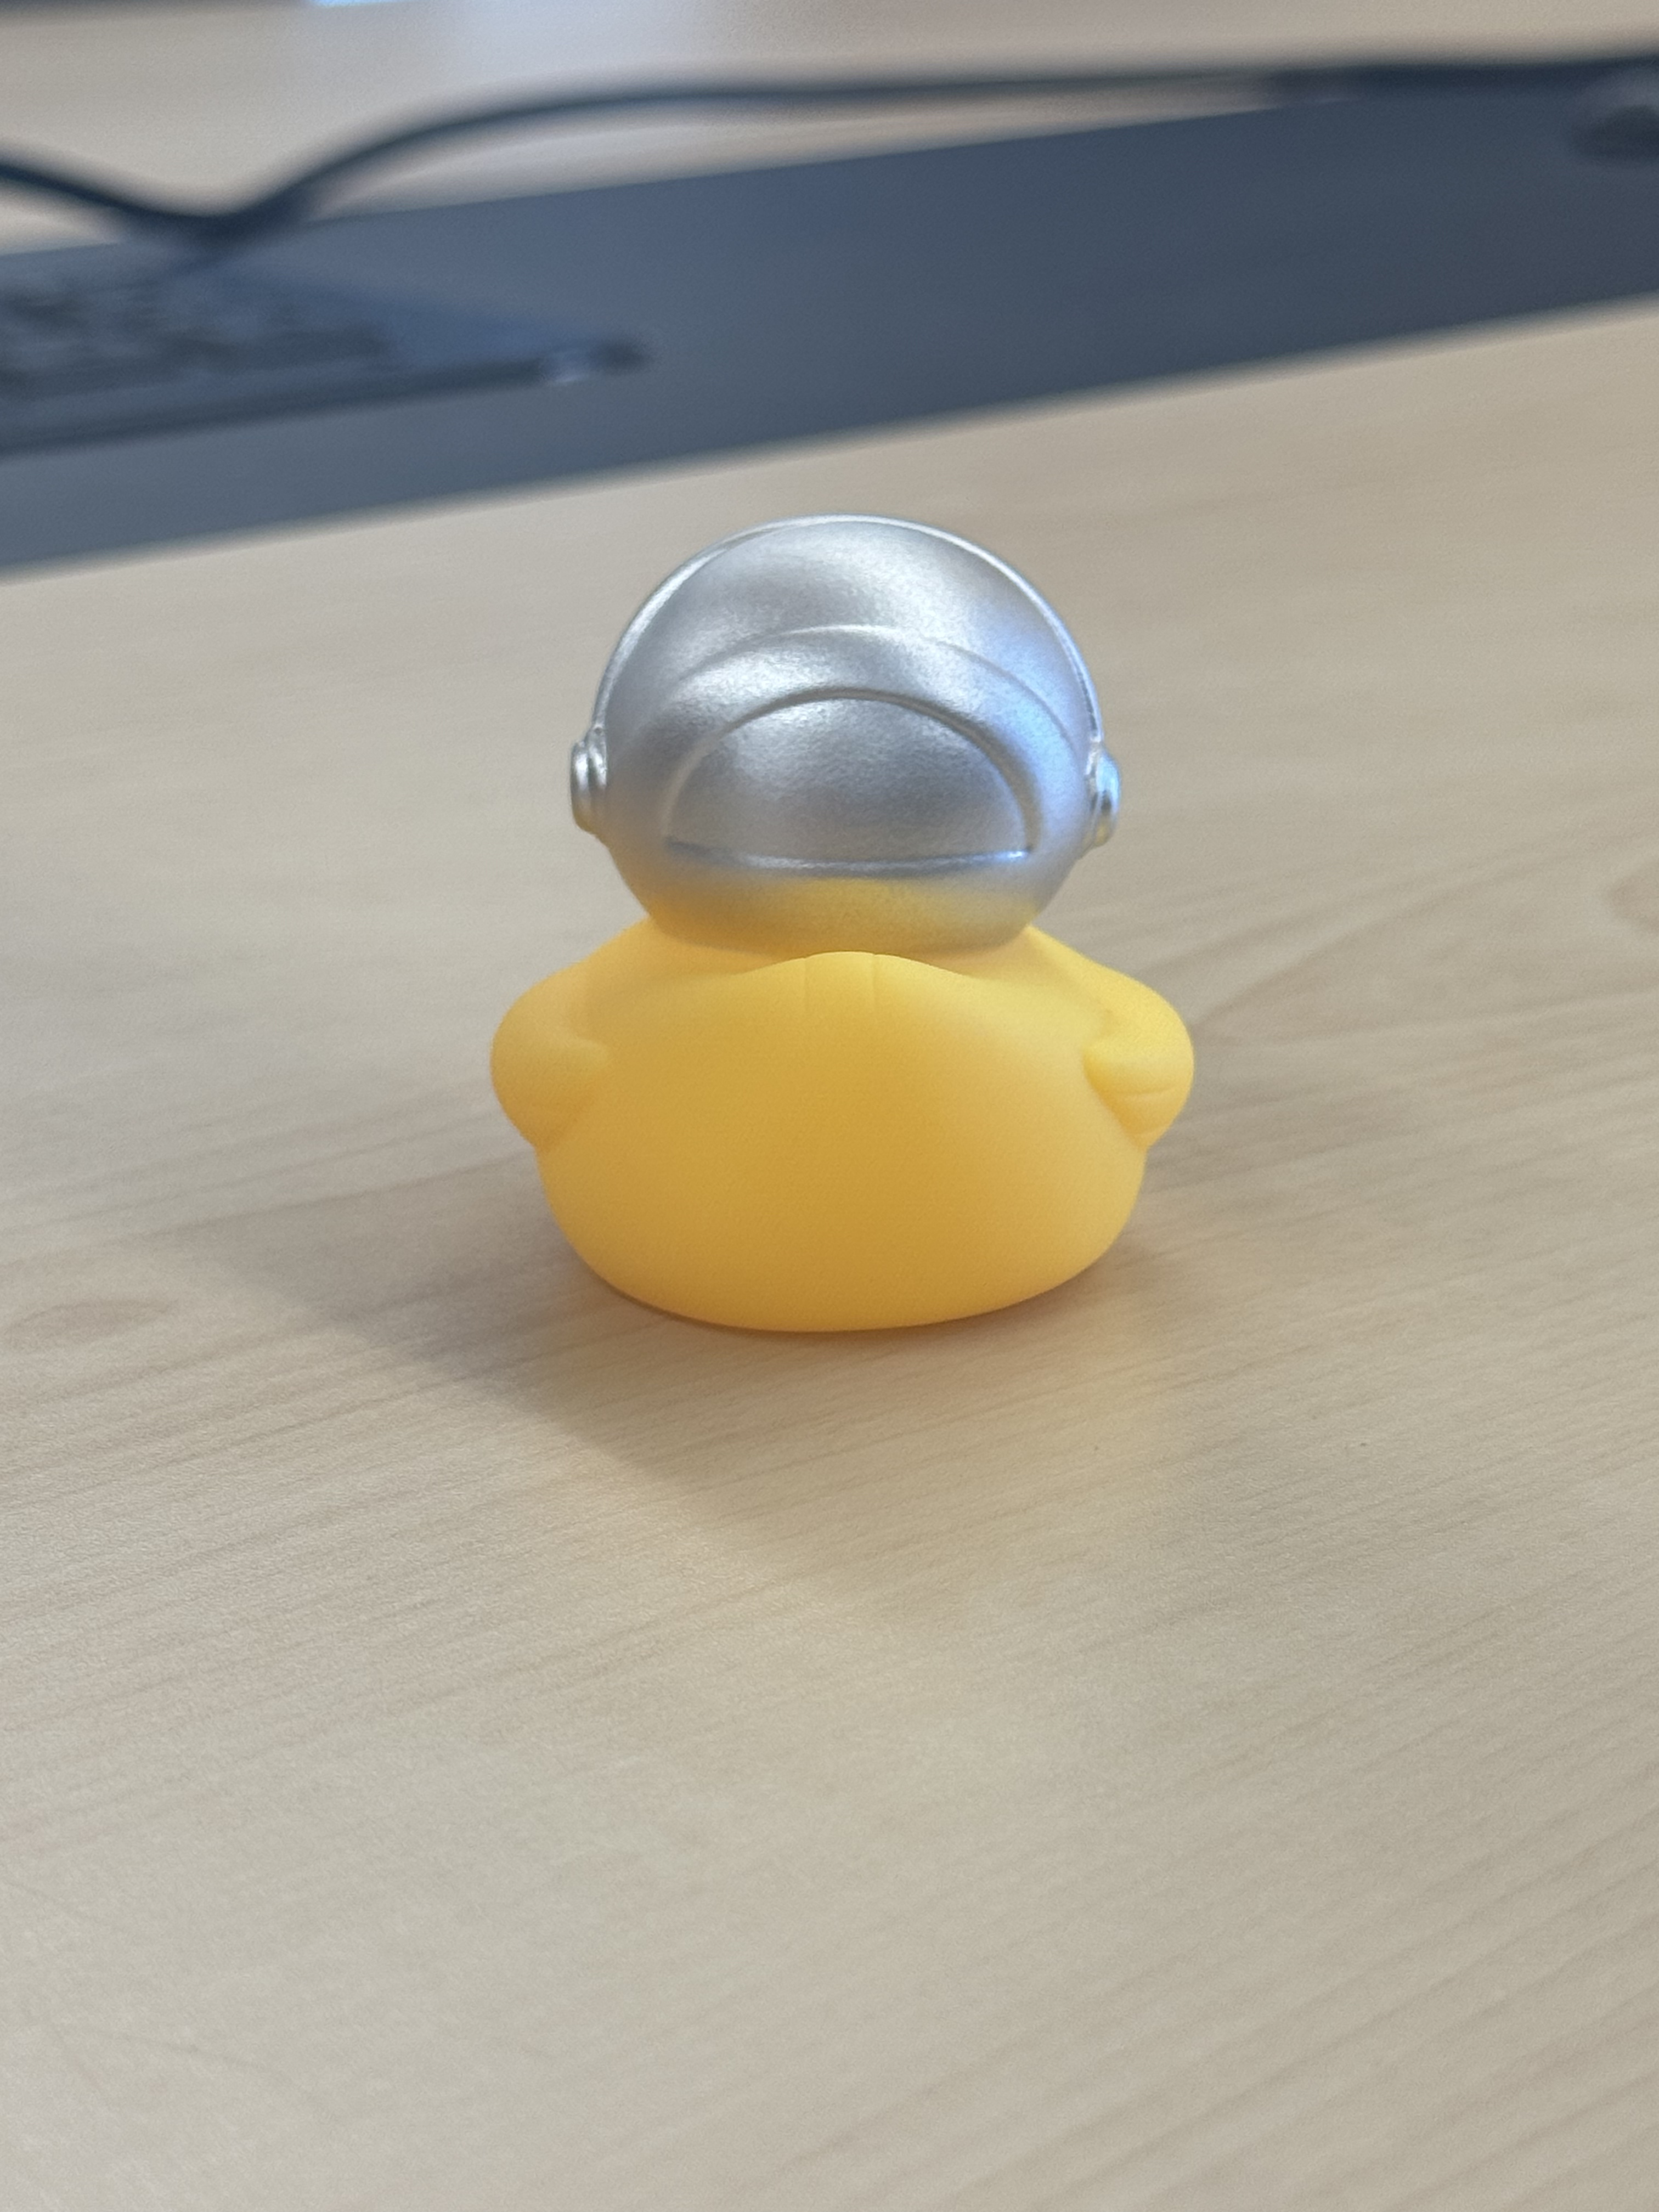duck_specialty: (476, 507, 1213, 1364)
